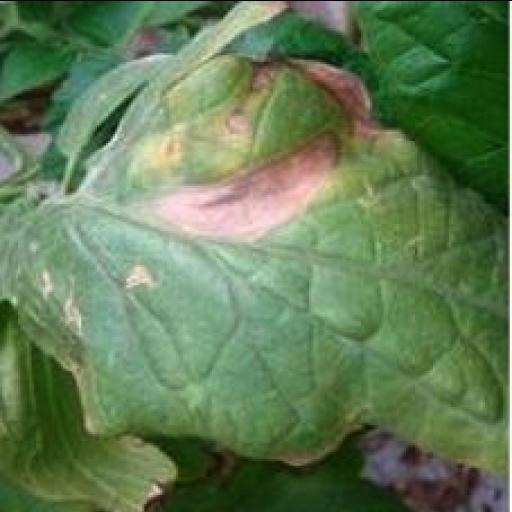disease_tomato: (0, 45, 507, 485)
